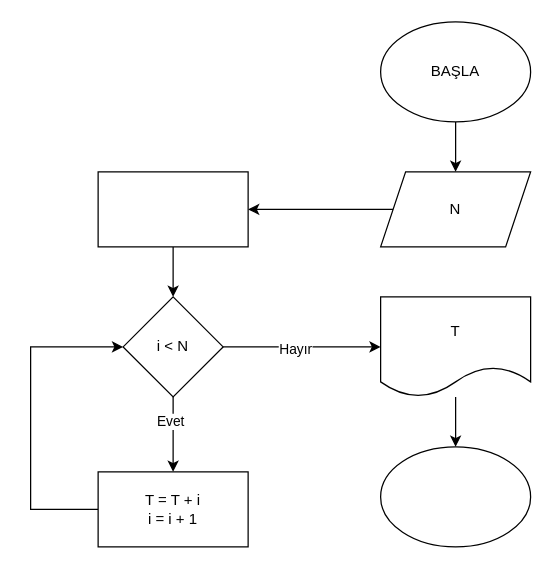
This 553x569 diagram has some shape labels left out. Each missing label, with the centre of its shape:
BİTİR: (455,496)
T = 0 i = 1: (172,209)
